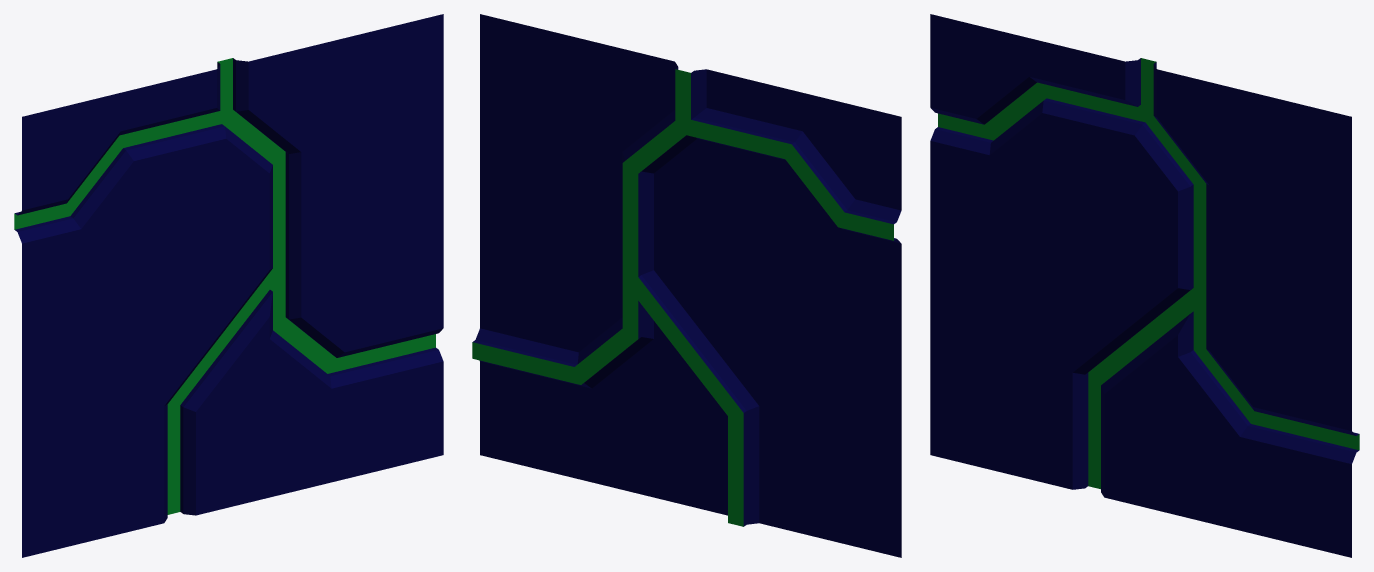
The model's file is OBJ_Mur_8_Sym.fbx.
3 renders of one model, left to right at view 1: azimuth 30°, elevation 25°; view 2: azimuth 150°, elevation 25°; view 3: azimuth 330°, elevation 25°, orthographic.
Visible parts, largest first — view 1: OBJ_Mur_8_Sym; view 2: OBJ_Mur_8_Sym; view 3: OBJ_Mur_8_Sym.
Boxes of the visible parts, x1,y1,x2,y2 form: OBJ_Mur_8_Sym: (14,14,443,557); OBJ_Mur_8_Sym: (472,14,901,557); OBJ_Mur_8_Sym: (930,14,1359,557).
Bounding box in the file's own units: 16 × 16 × 0.5.
